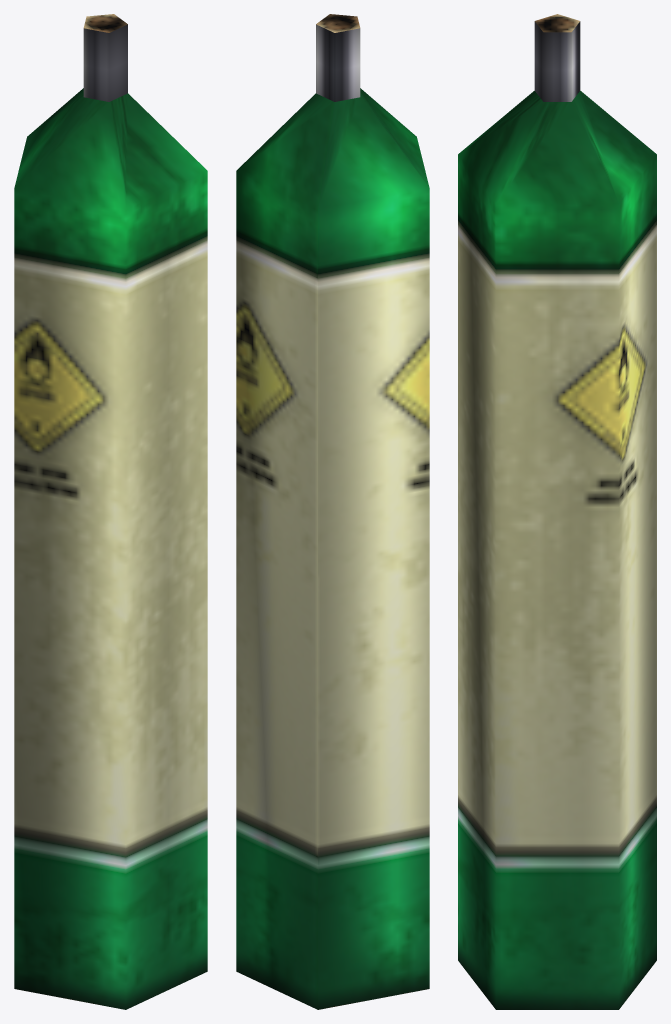
File: mprw_oxygen_tank.FBX
3 views of the same model, side by side, from view 1: azimuth 30°, elevation 25°; view 2: azimuth 150°, elevation 25°; view 3: azimuth 270°, elevation 25° (orthographic).
Visible parts, largest first — view 1: mprw_oxygen_tank; view 2: mprw_oxygen_tank; view 3: mprw_oxygen_tank.
Part boxes in pixels (bbox=[...]): mprw_oxygen_tank: bbox=[14, 14, 207, 1009]; mprw_oxygen_tank: bbox=[236, 14, 429, 1009]; mprw_oxygen_tank: bbox=[458, 14, 656, 1009].
Bounding box in the file's own units: 42.54 × 236 × 44.73.
Materials: 1 (1 with a texture image).
